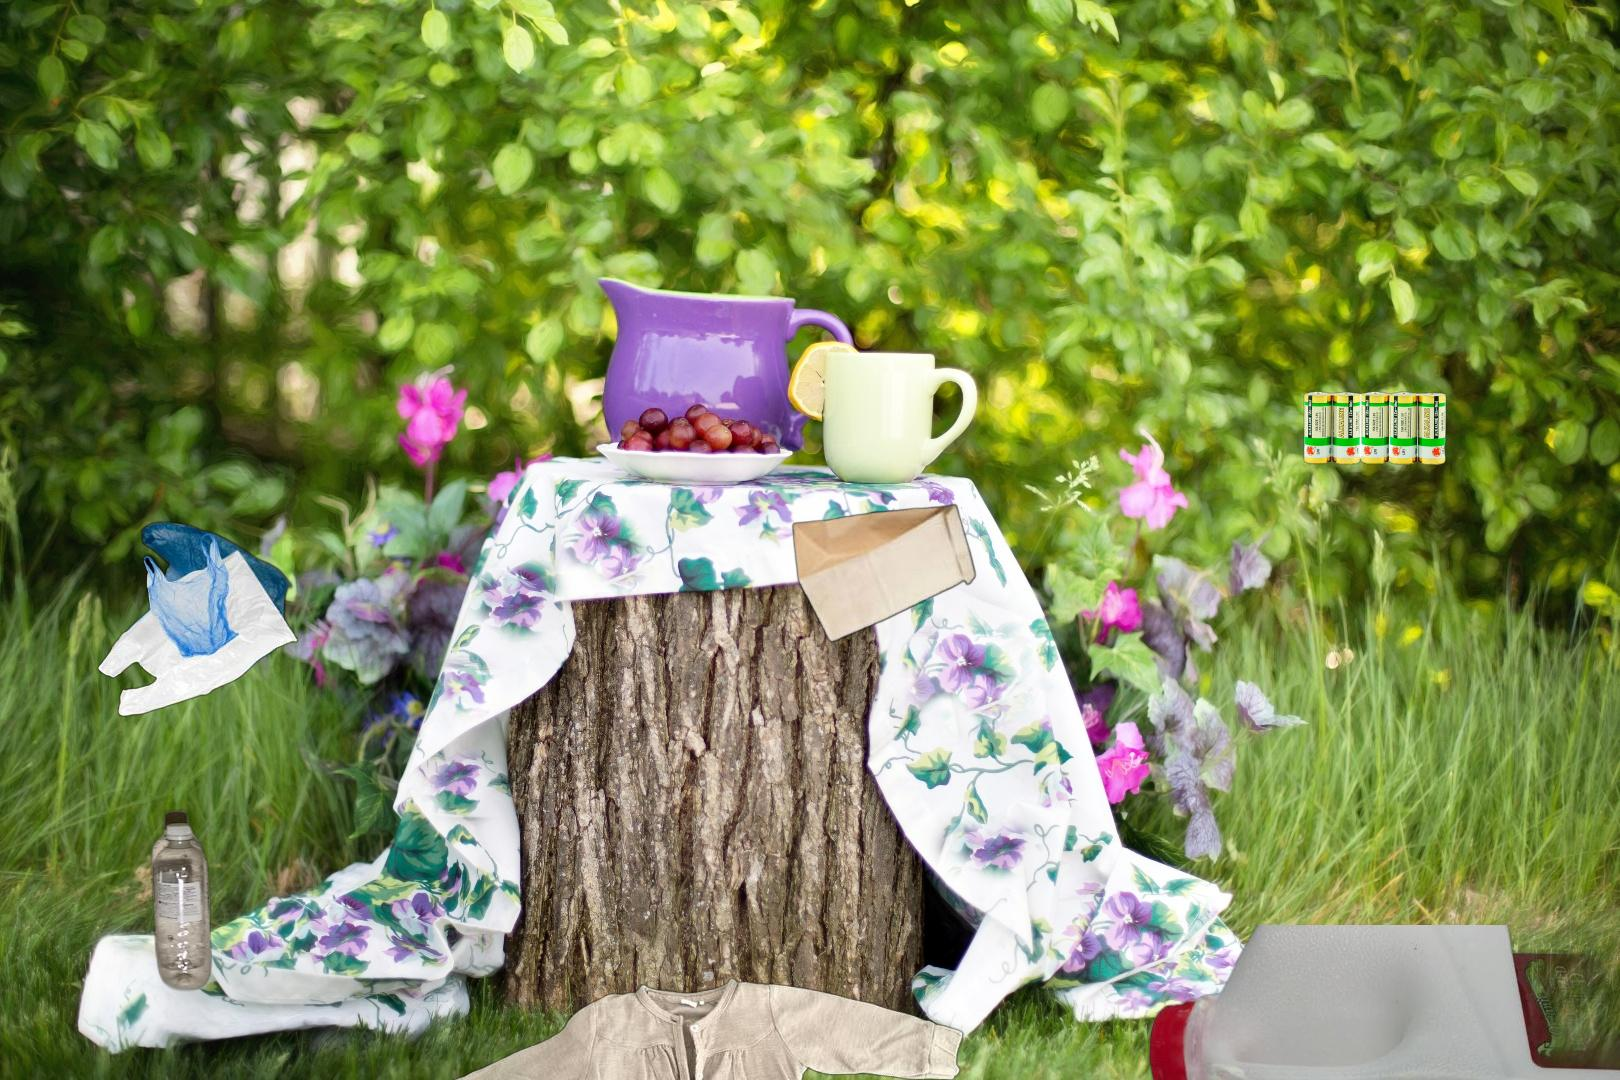battery: (1301, 388, 1449, 468)
clothes: (433, 888, 965, 1080)
paper-bag: (790, 501, 978, 645)
plastic-bag: (95, 518, 300, 720)
plastic-bottles: (1145, 925, 1620, 1080), (147, 805, 215, 996)
